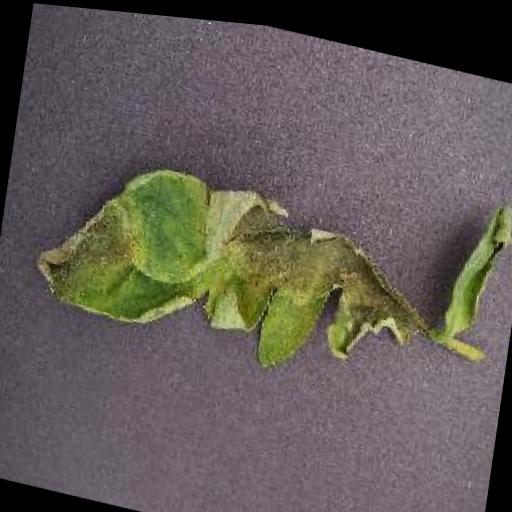Late Blight: (26, 138, 440, 398), (437, 179, 512, 331)
